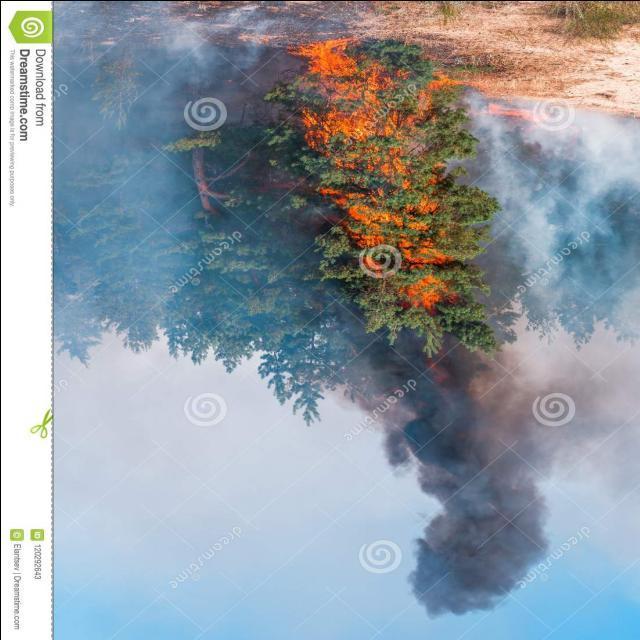Fire: (290, 37, 446, 303)
